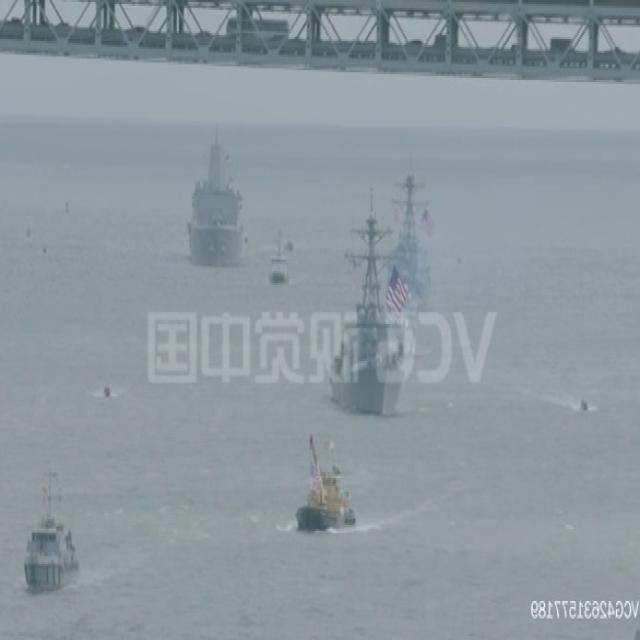houseboat: (22, 475, 88, 589), (296, 437, 358, 534), (268, 232, 295, 290), (579, 398, 589, 416), (102, 381, 111, 399)
navalvessels: (326, 202, 408, 420), (182, 142, 245, 269), (386, 163, 433, 311)
